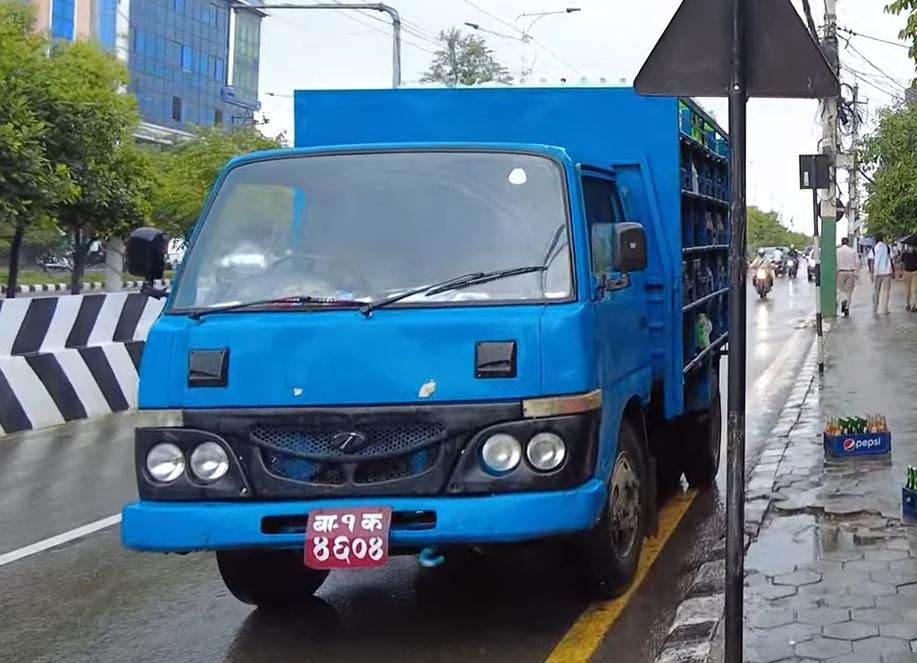bike: (747, 242, 783, 305)
mini_truck: (117, 74, 760, 603)
